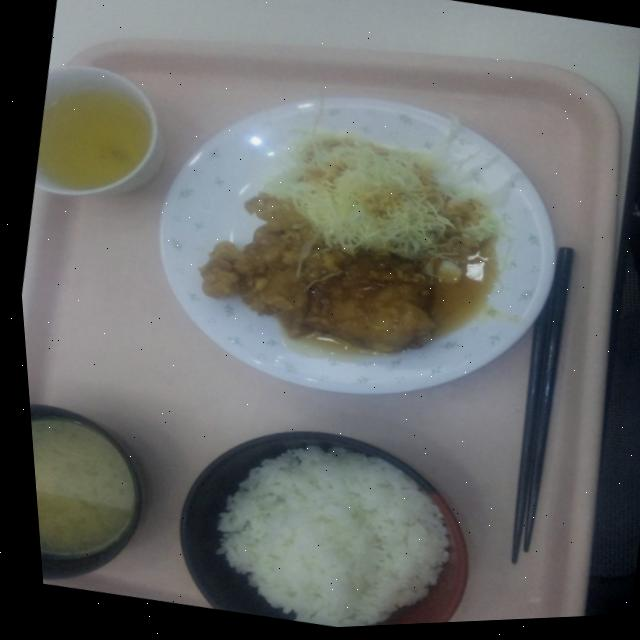米饭主食: (140, 402, 488, 636)
